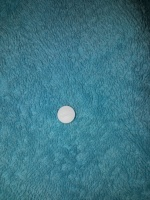Arveles: (56, 104, 77, 125)
